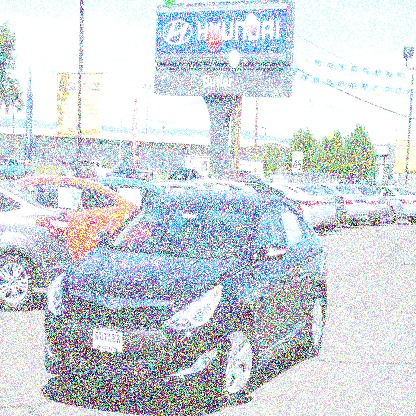Vehicle: (45, 191, 328, 406)
